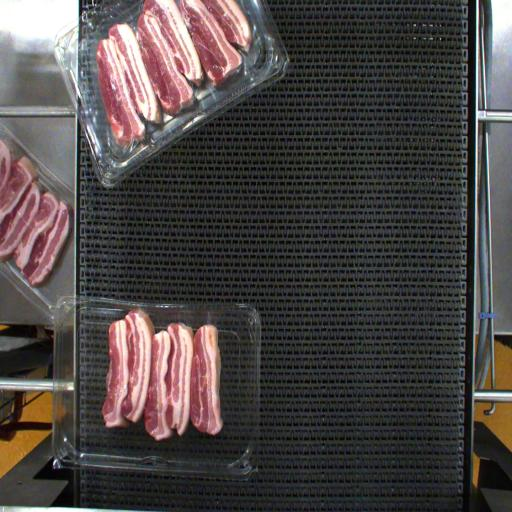packaging-error: (126, 298, 154, 322), (198, 307, 218, 335)
